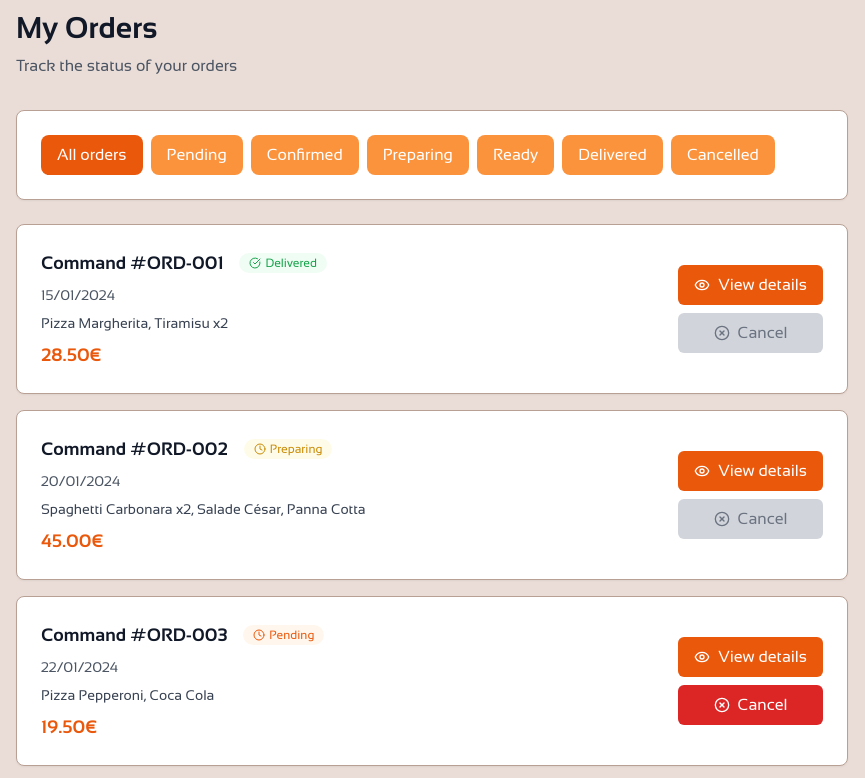
Orders Component › should filter orders by status when filter buttons are clicked
Click on "Delivered" filter
Click the button "Delivered" at (613, 155), box 562,135 -> 663,175
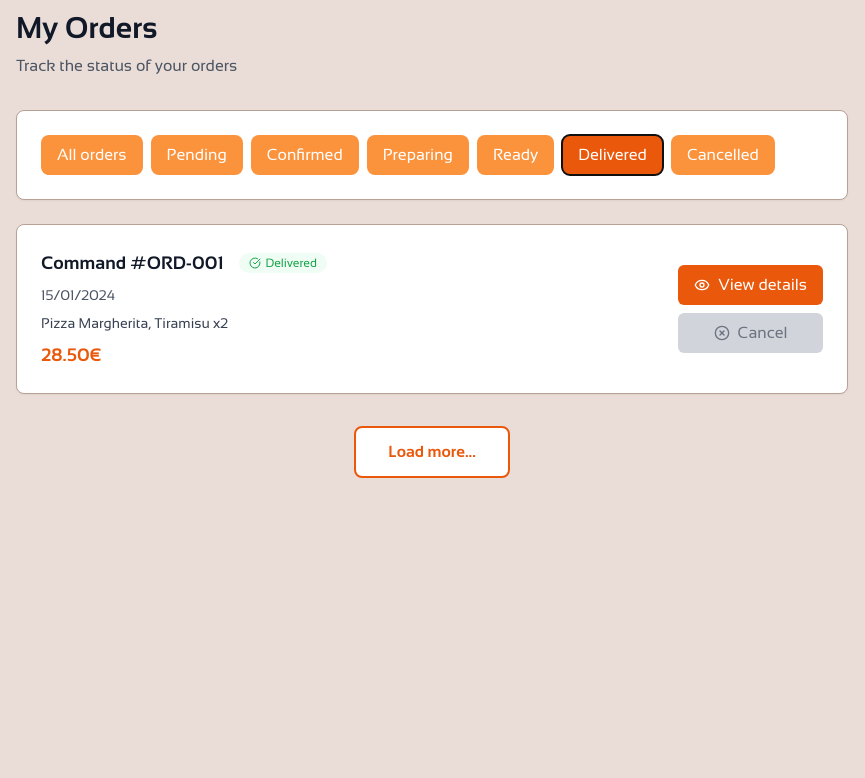
Check: the heading "Command #ORD-001" is shown, box 41,249 -> 224,277
Check: the heading "Command #ORD-002" is gone
Check: the heading "Command #ORD-003" is gone
